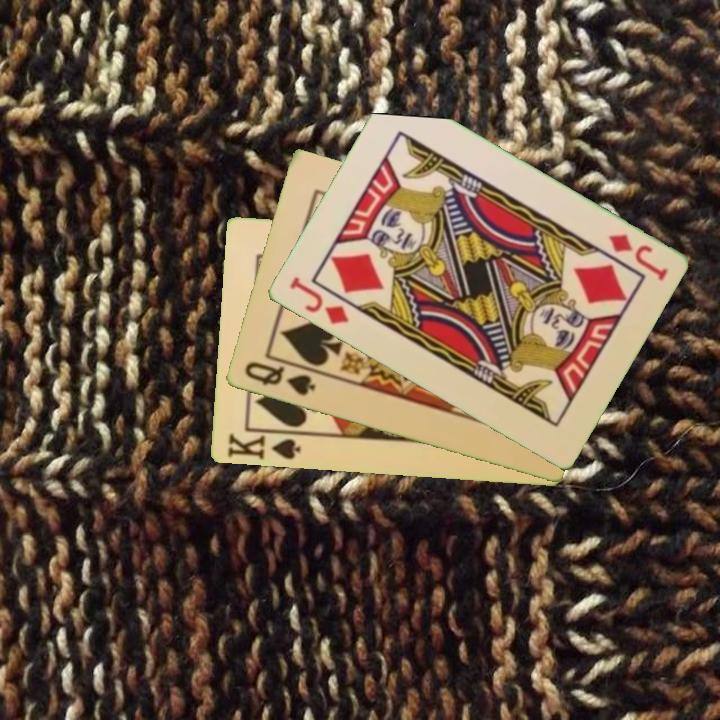Jd: (285, 273, 351, 328), (604, 230, 670, 284)
Ks: (223, 430, 303, 463)
Qs: (240, 358, 319, 399)
